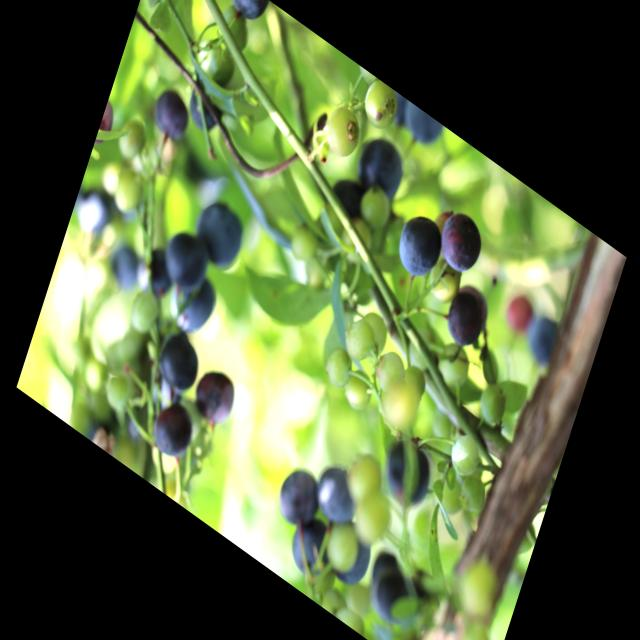blueberry: (370, 429, 438, 525), (186, 185, 253, 278), (428, 198, 490, 288), (162, 261, 225, 349), (349, 129, 409, 213), (391, 204, 447, 288), (144, 389, 201, 470), (187, 356, 243, 438), (151, 324, 206, 404), (157, 224, 214, 301), (272, 459, 326, 537), (308, 460, 363, 536), (322, 169, 376, 241), (326, 522, 377, 598), (442, 277, 492, 354), (365, 561, 416, 631), (288, 510, 336, 582), (182, 79, 227, 142), (523, 309, 564, 375), (104, 238, 147, 298), (148, 86, 190, 146), (397, 100, 442, 156), (136, 248, 176, 304), (219, 0, 272, 36)
blueberry-unripe: (360, 75, 404, 140), (433, 335, 475, 397), (322, 103, 364, 163), (340, 307, 380, 369), (373, 344, 410, 401), (448, 431, 482, 482), (455, 468, 488, 520), (323, 343, 355, 392), (343, 368, 375, 416), (478, 381, 508, 427)
